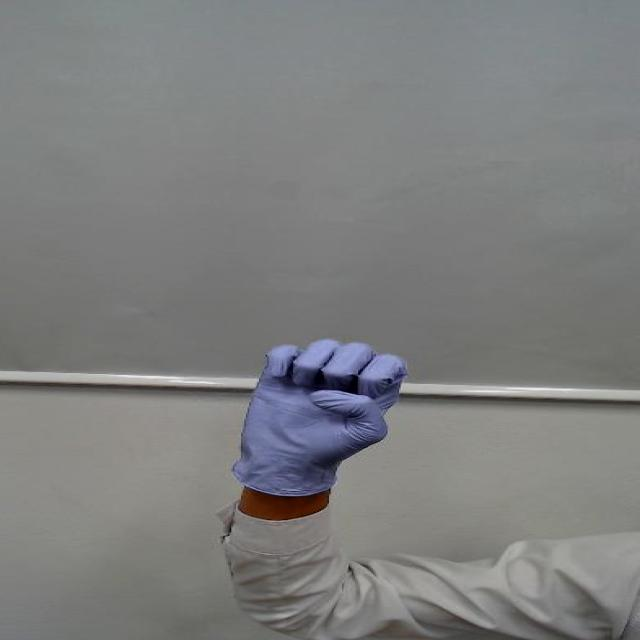glove: (222, 343, 410, 458)
